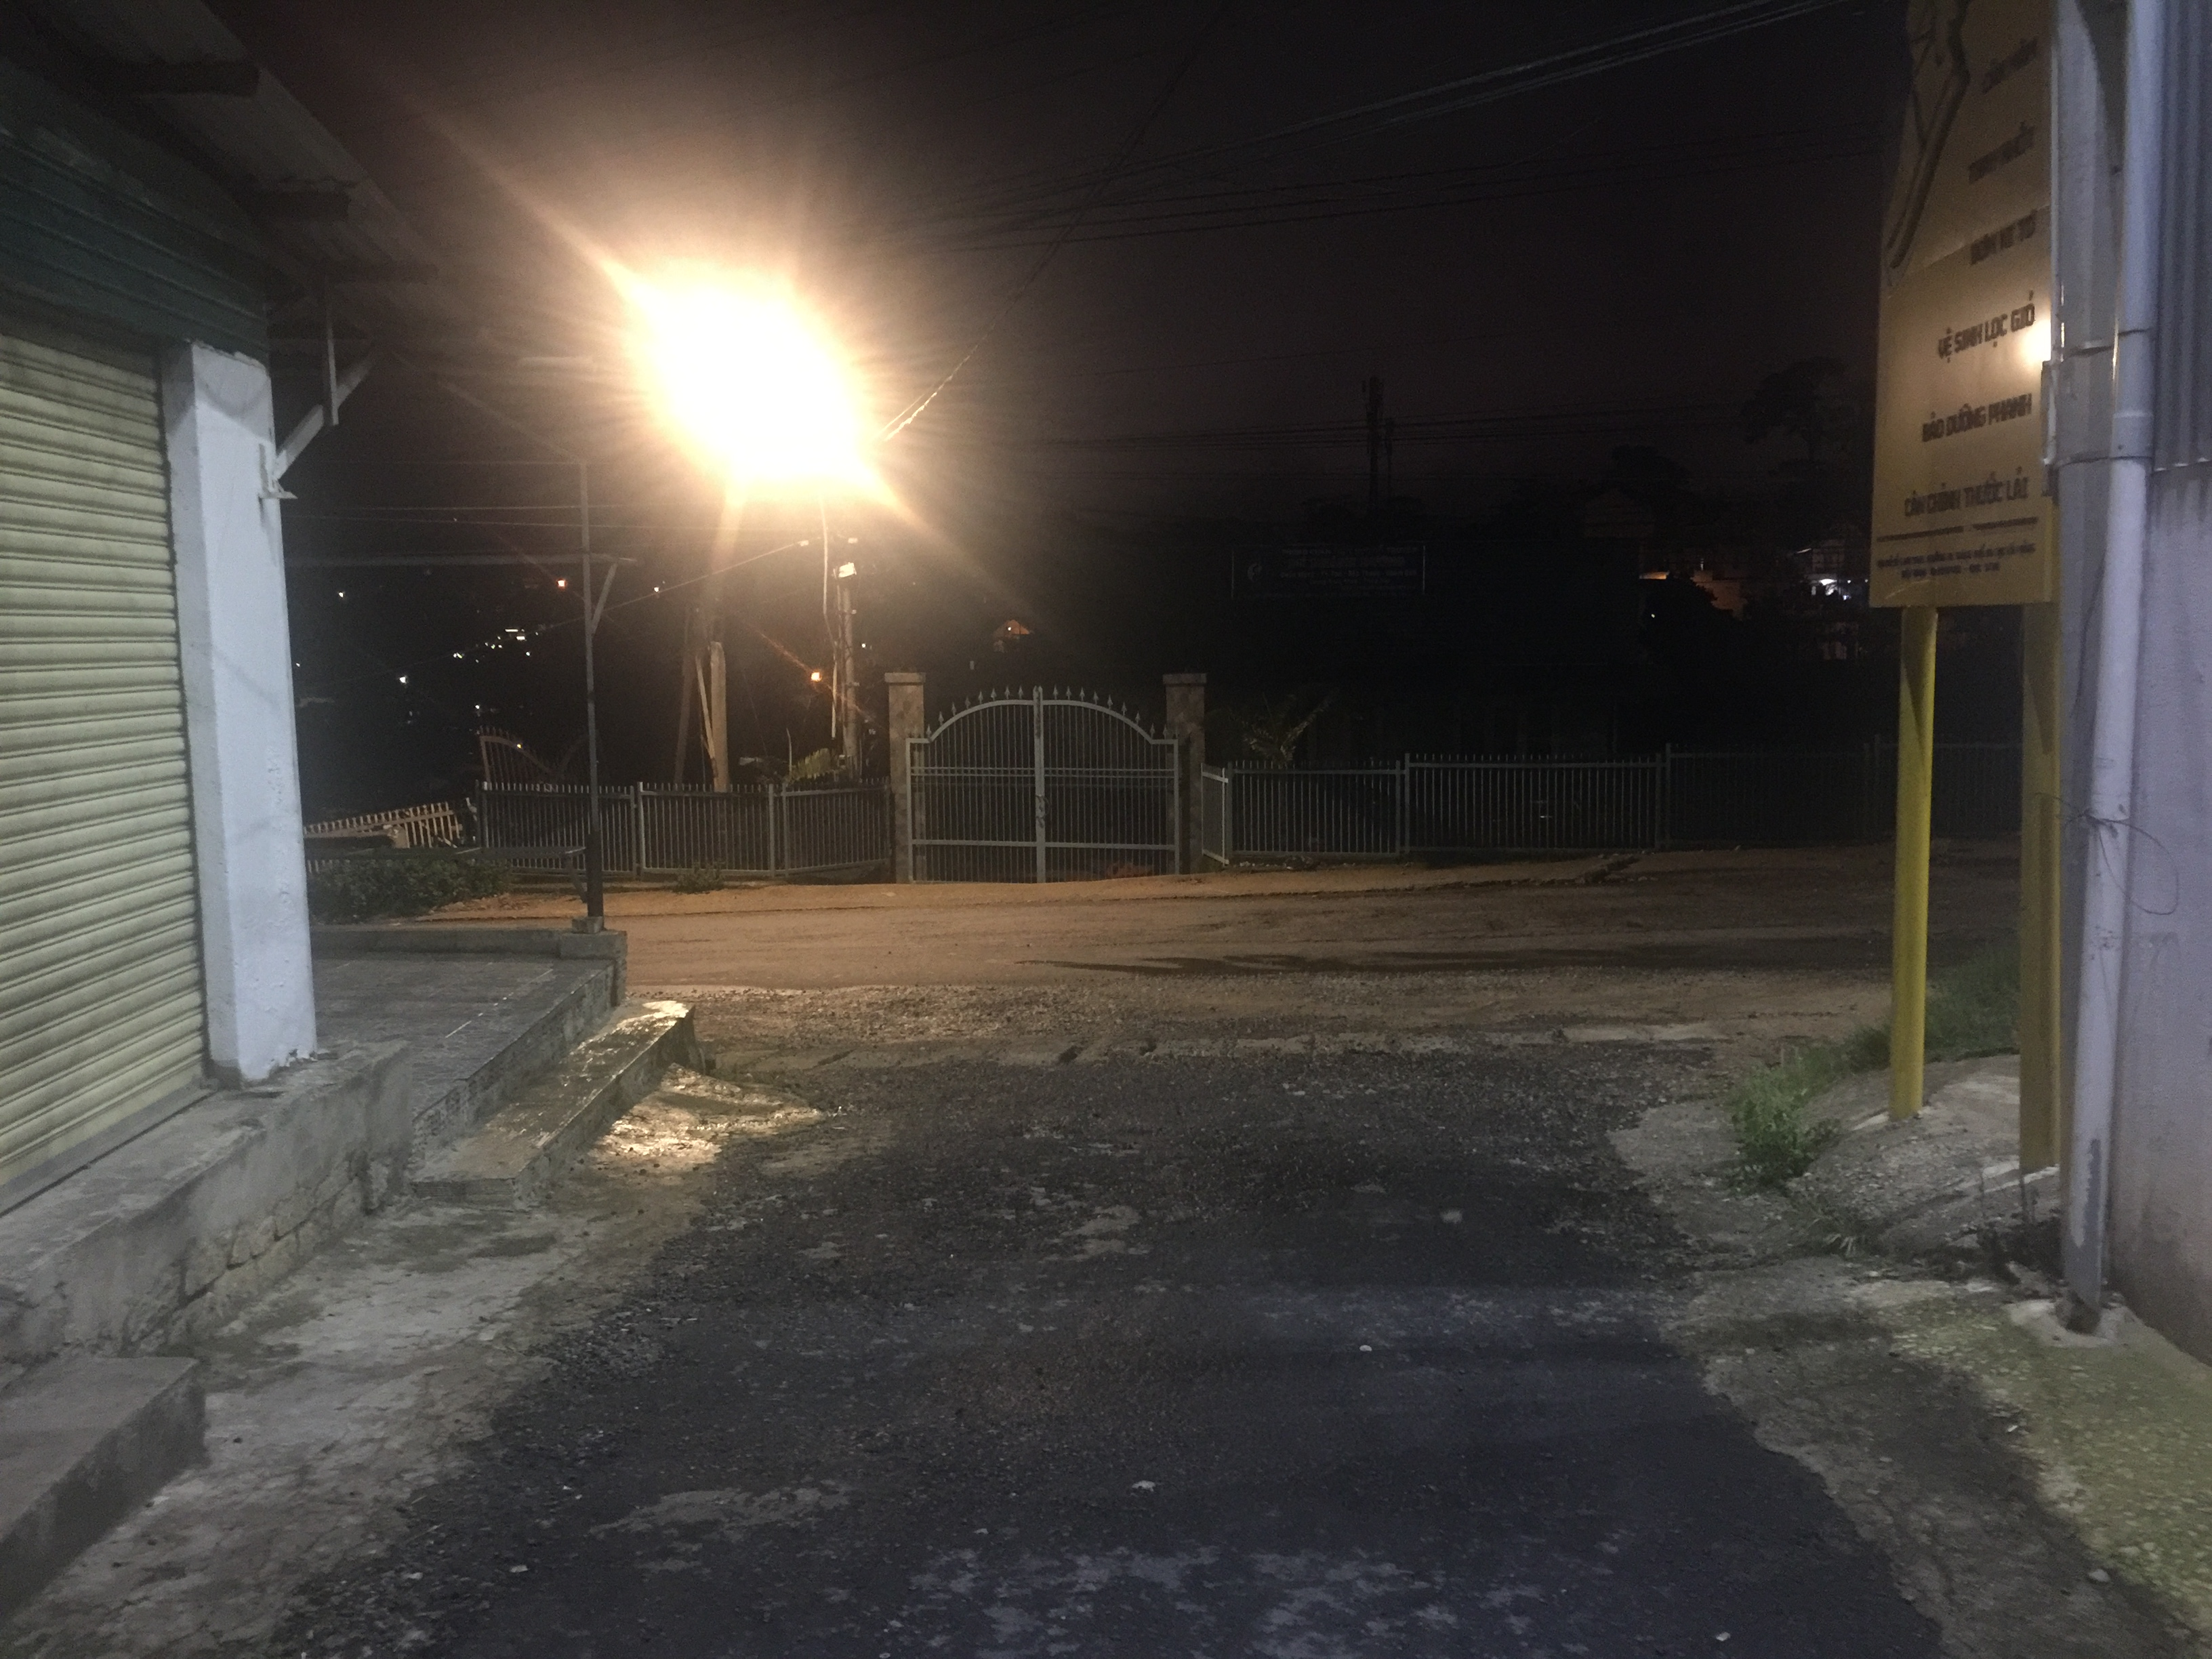hole: (1097, 1129, 1162, 1154), (1014, 1121, 1075, 1140)
